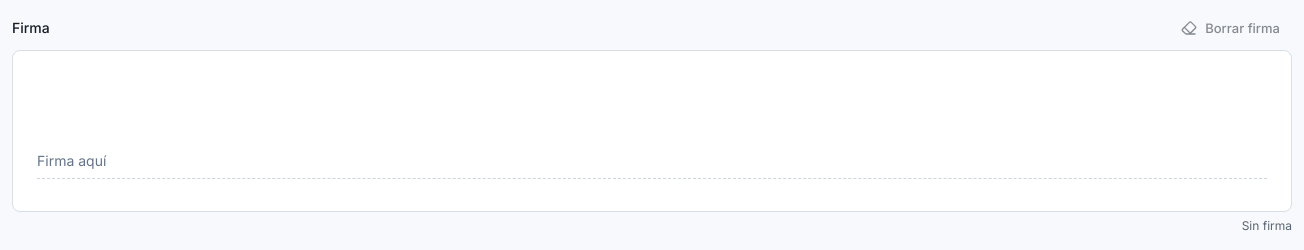
Test: SignaturePad › «Borrar» limpia el lienzo y avisa con null
Press the mouse on the picture named "Firma" at (652, 131), box [13, 51, 1291, 211]
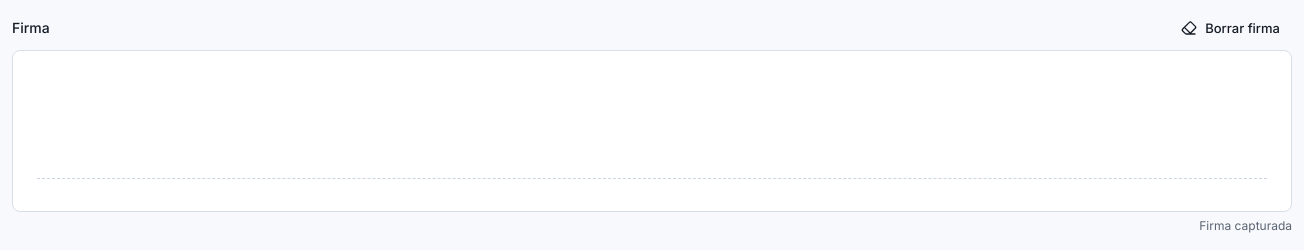
Click the button "Borrar firma" at (1231, 28), box [1169, 12, 1292, 44]
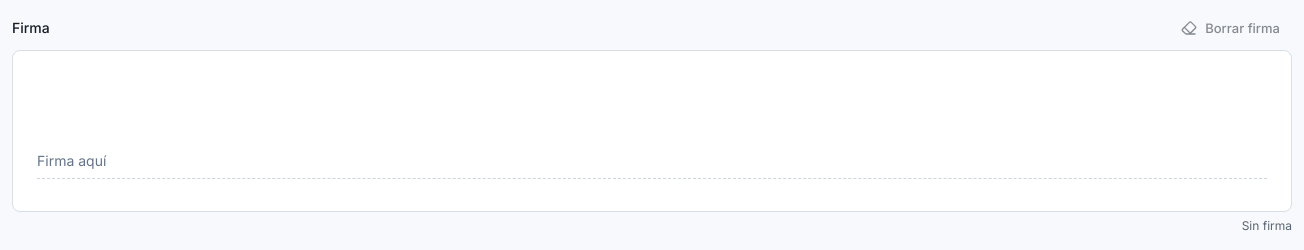
Result: the message reads "Sin firma" at [1242, 218, 1292, 233]
Result: the button "Borrar firma" is disabled at [1169, 12, 1292, 44]
